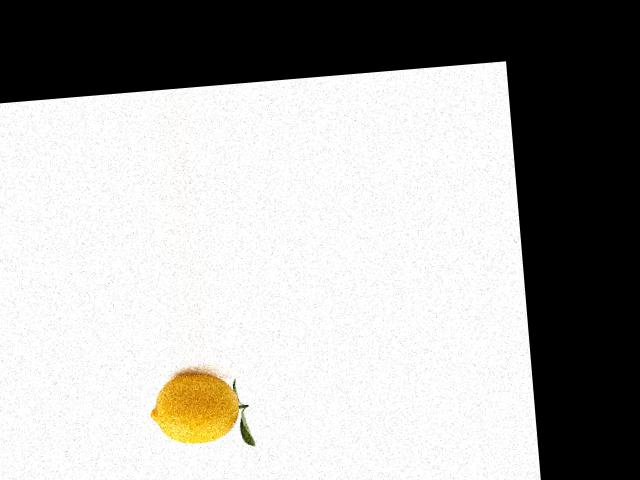lemon: (141, 366, 244, 448)
